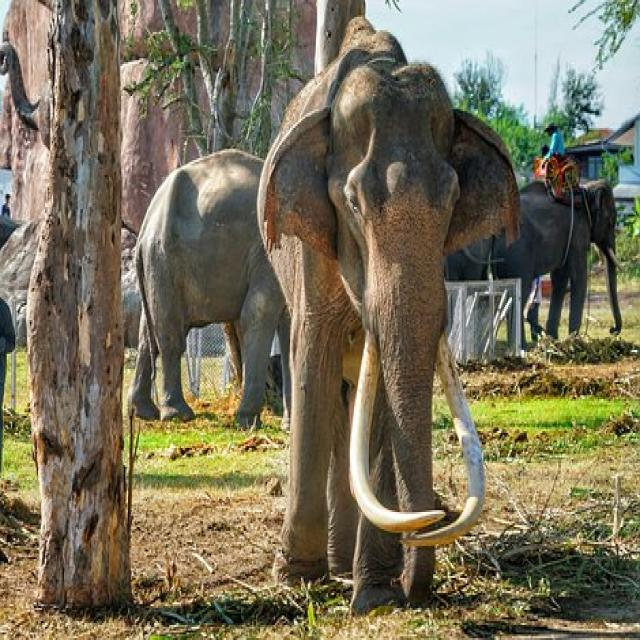Elephant: (256, 2, 523, 617), (120, 104, 292, 423), (516, 128, 629, 386)
